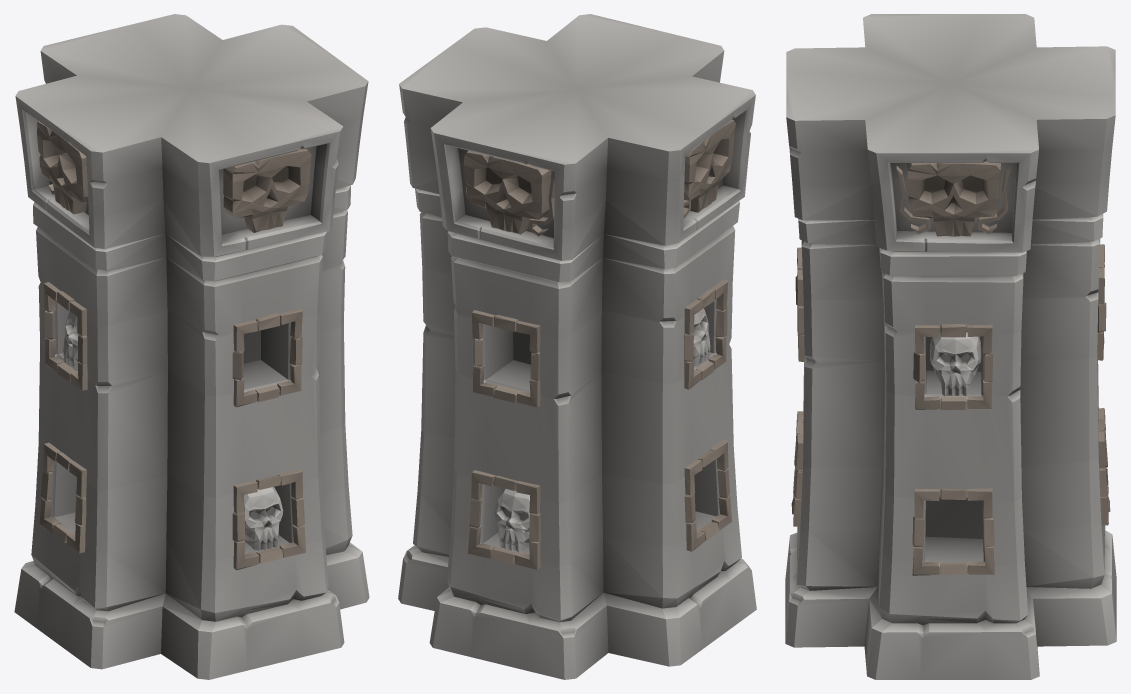
File: obj_columnSkull_large_LOW.FBX
3 views of the same model, side by side, from view 1: azimuth 30°, elevation 25°; view 2: azimuth 150°, elevation 25°; view 3: azimuth 270°, elevation 25° (orthographic). The views are drawn at different scales.
Visible parts, largest first — view 1: obj_columnSkull_large_LOW; view 2: obj_columnSkull_large_LOW; view 3: obj_columnSkull_large_LOW.
Part boxes in pixels (<box>): obj_columnSkull_large_LOW: <box>14,14,369,679</box>; obj_columnSkull_large_LOW: <box>398,14,756,679</box>; obj_columnSkull_large_LOW: <box>785,14,1116,679</box>.
Bounding box in the file's own units: 3.42 × 6 × 3.42.
